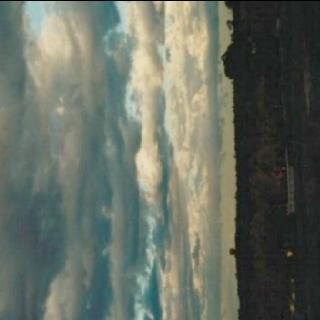Stratus: (0, 0, 218, 320)
